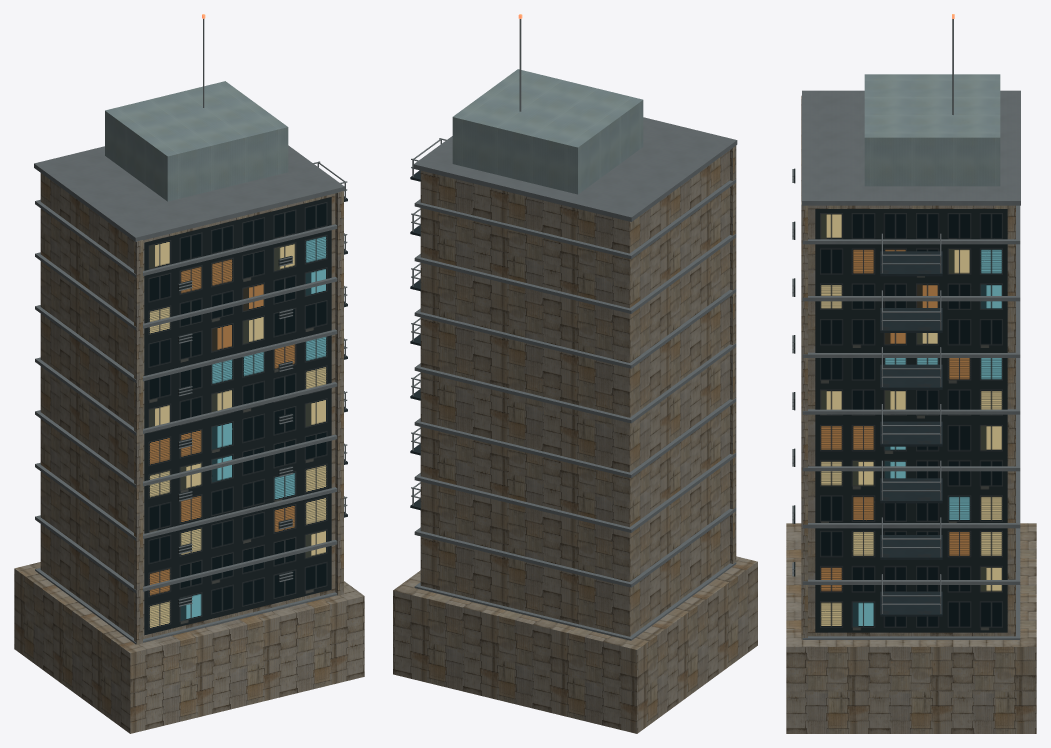
File: NC_Building_tenement_LOD1.fbx
The picture shows the model from 3 angles, left to right: view 1: azimuth 30°, elevation 25°; view 2: azimuth 150°, elevation 25°; view 3: azimuth 270°, elevation 25°; orthographic projection. The views are drawn at different scales.
Visible parts, largest first — view 1: NC_Building_tenement_LOD1; view 2: NC_Building_tenement_LOD1; view 3: NC_Building_tenement_LOD1.
Part boxes in pixels (bbox=[...]): NC_Building_tenement_LOD1: bbox=[14, 14, 364, 733]; NC_Building_tenement_LOD1: bbox=[393, 14, 757, 733]; NC_Building_tenement_LOD1: bbox=[786, 14, 1036, 733].
Size of the model in its own units: 1560 by 3570 by 1200.
